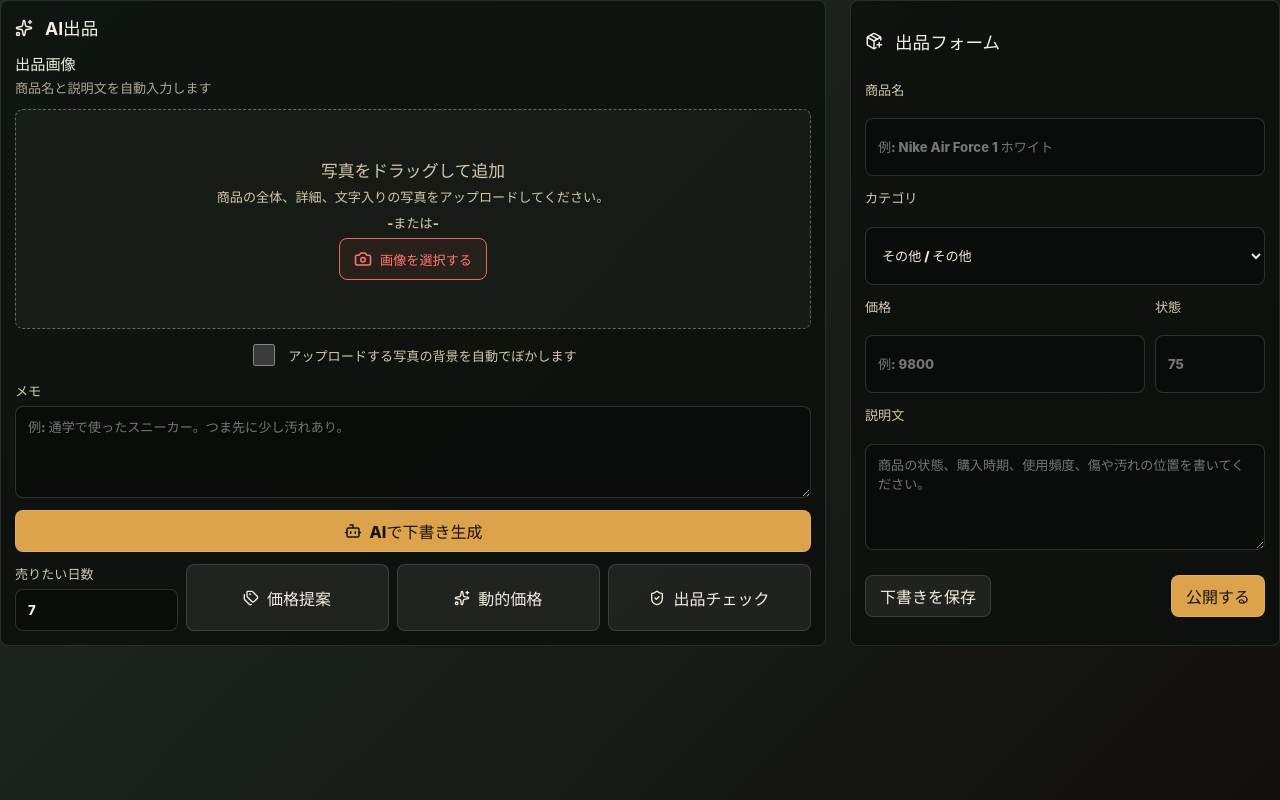
Test: SellPage › passes the AI market range into dynamic pricing
Click the button "価格提案": (287, 598) [186,564,389,631]
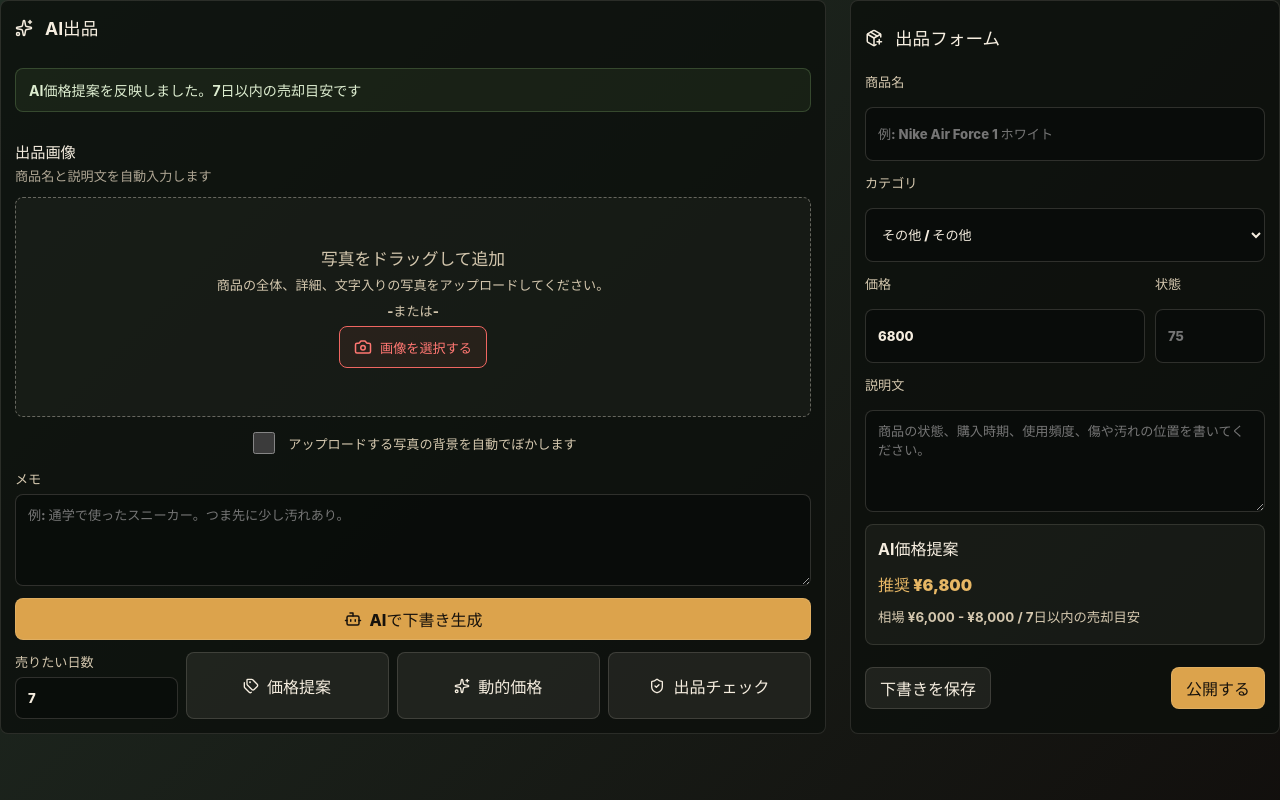
Result: the text "推奨 ¥6,800" is shown at [878,575,972,595]
Click the button "動的価格": (498, 686) [397,652,600,719]
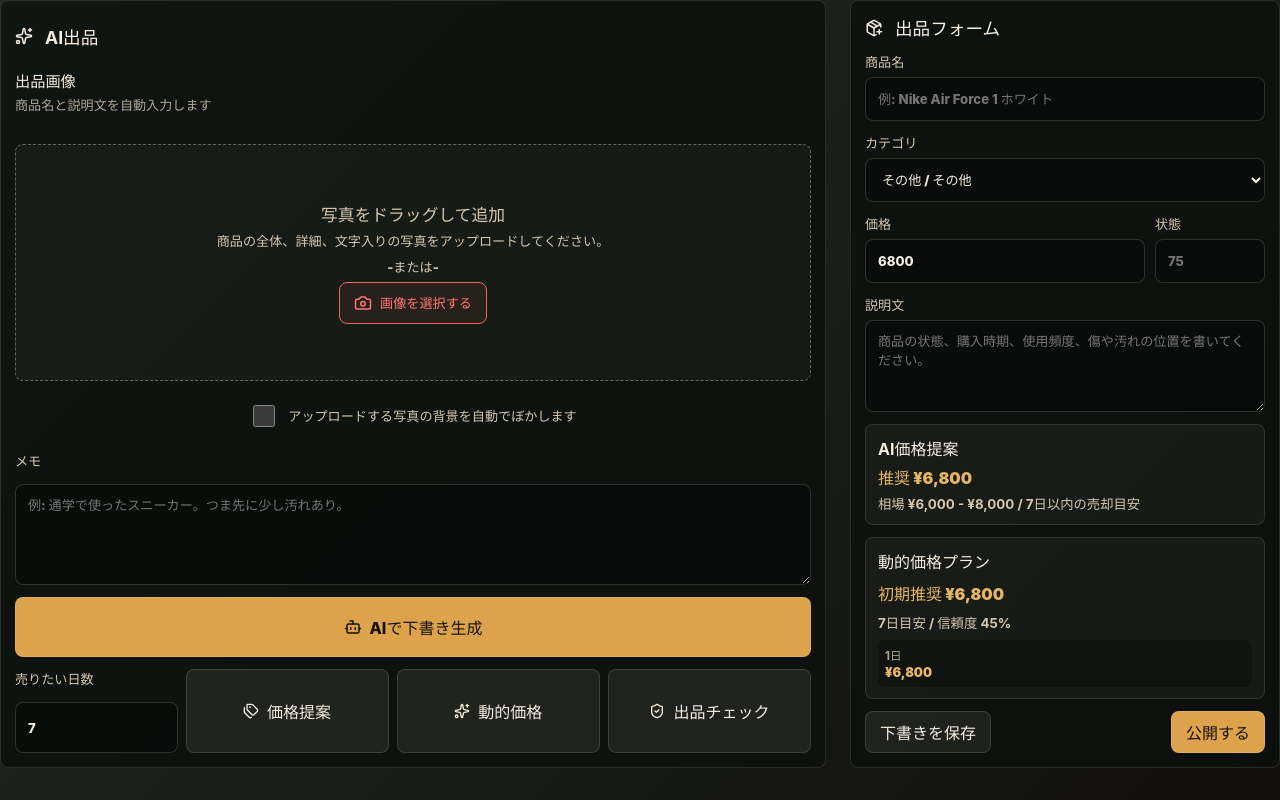
Result: the text "初期推奨 ¥6,800" is shown at [878,584,1004,604]
